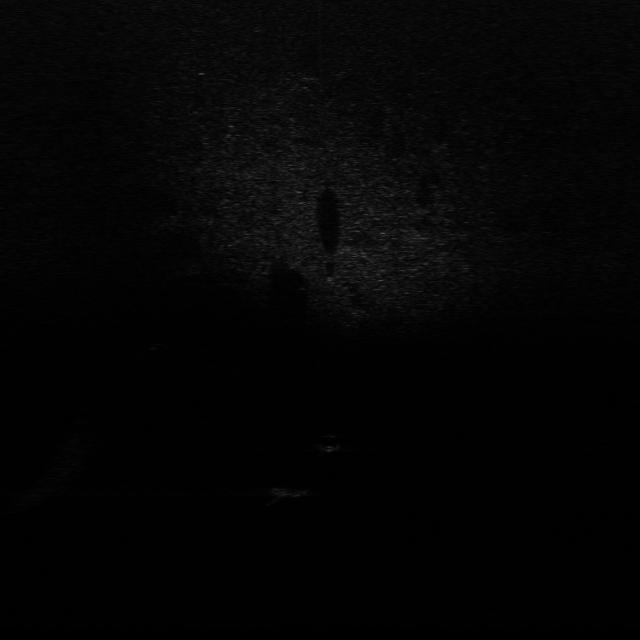ball: (312, 430, 346, 455)
square cage: (262, 484, 324, 500)
